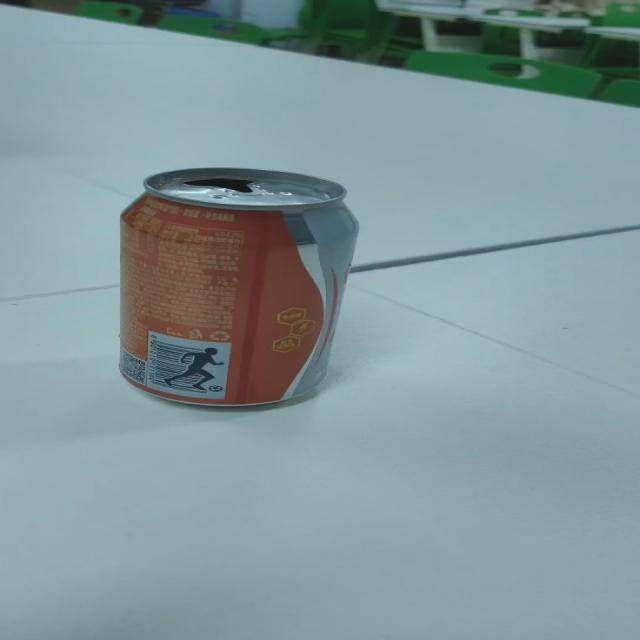can: (121, 170, 357, 414)
